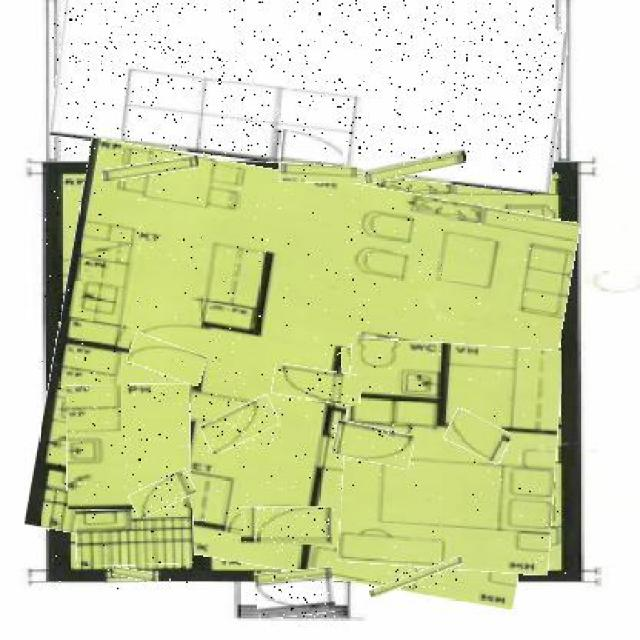door: (256, 569, 336, 617), (241, 506, 334, 545), (202, 402, 278, 448), (128, 338, 206, 382), (270, 366, 362, 403), (332, 424, 414, 464), (446, 414, 509, 460), (130, 474, 196, 512), (282, 131, 344, 166)
window: (369, 563, 465, 589), (363, 154, 466, 178), (102, 158, 198, 178), (278, 163, 357, 183), (112, 569, 158, 580)
zone: (40, 157, 566, 589), (52, 0, 563, 178), (342, 342, 558, 572), (68, 385, 190, 509), (77, 508, 194, 566), (342, 343, 431, 402)
